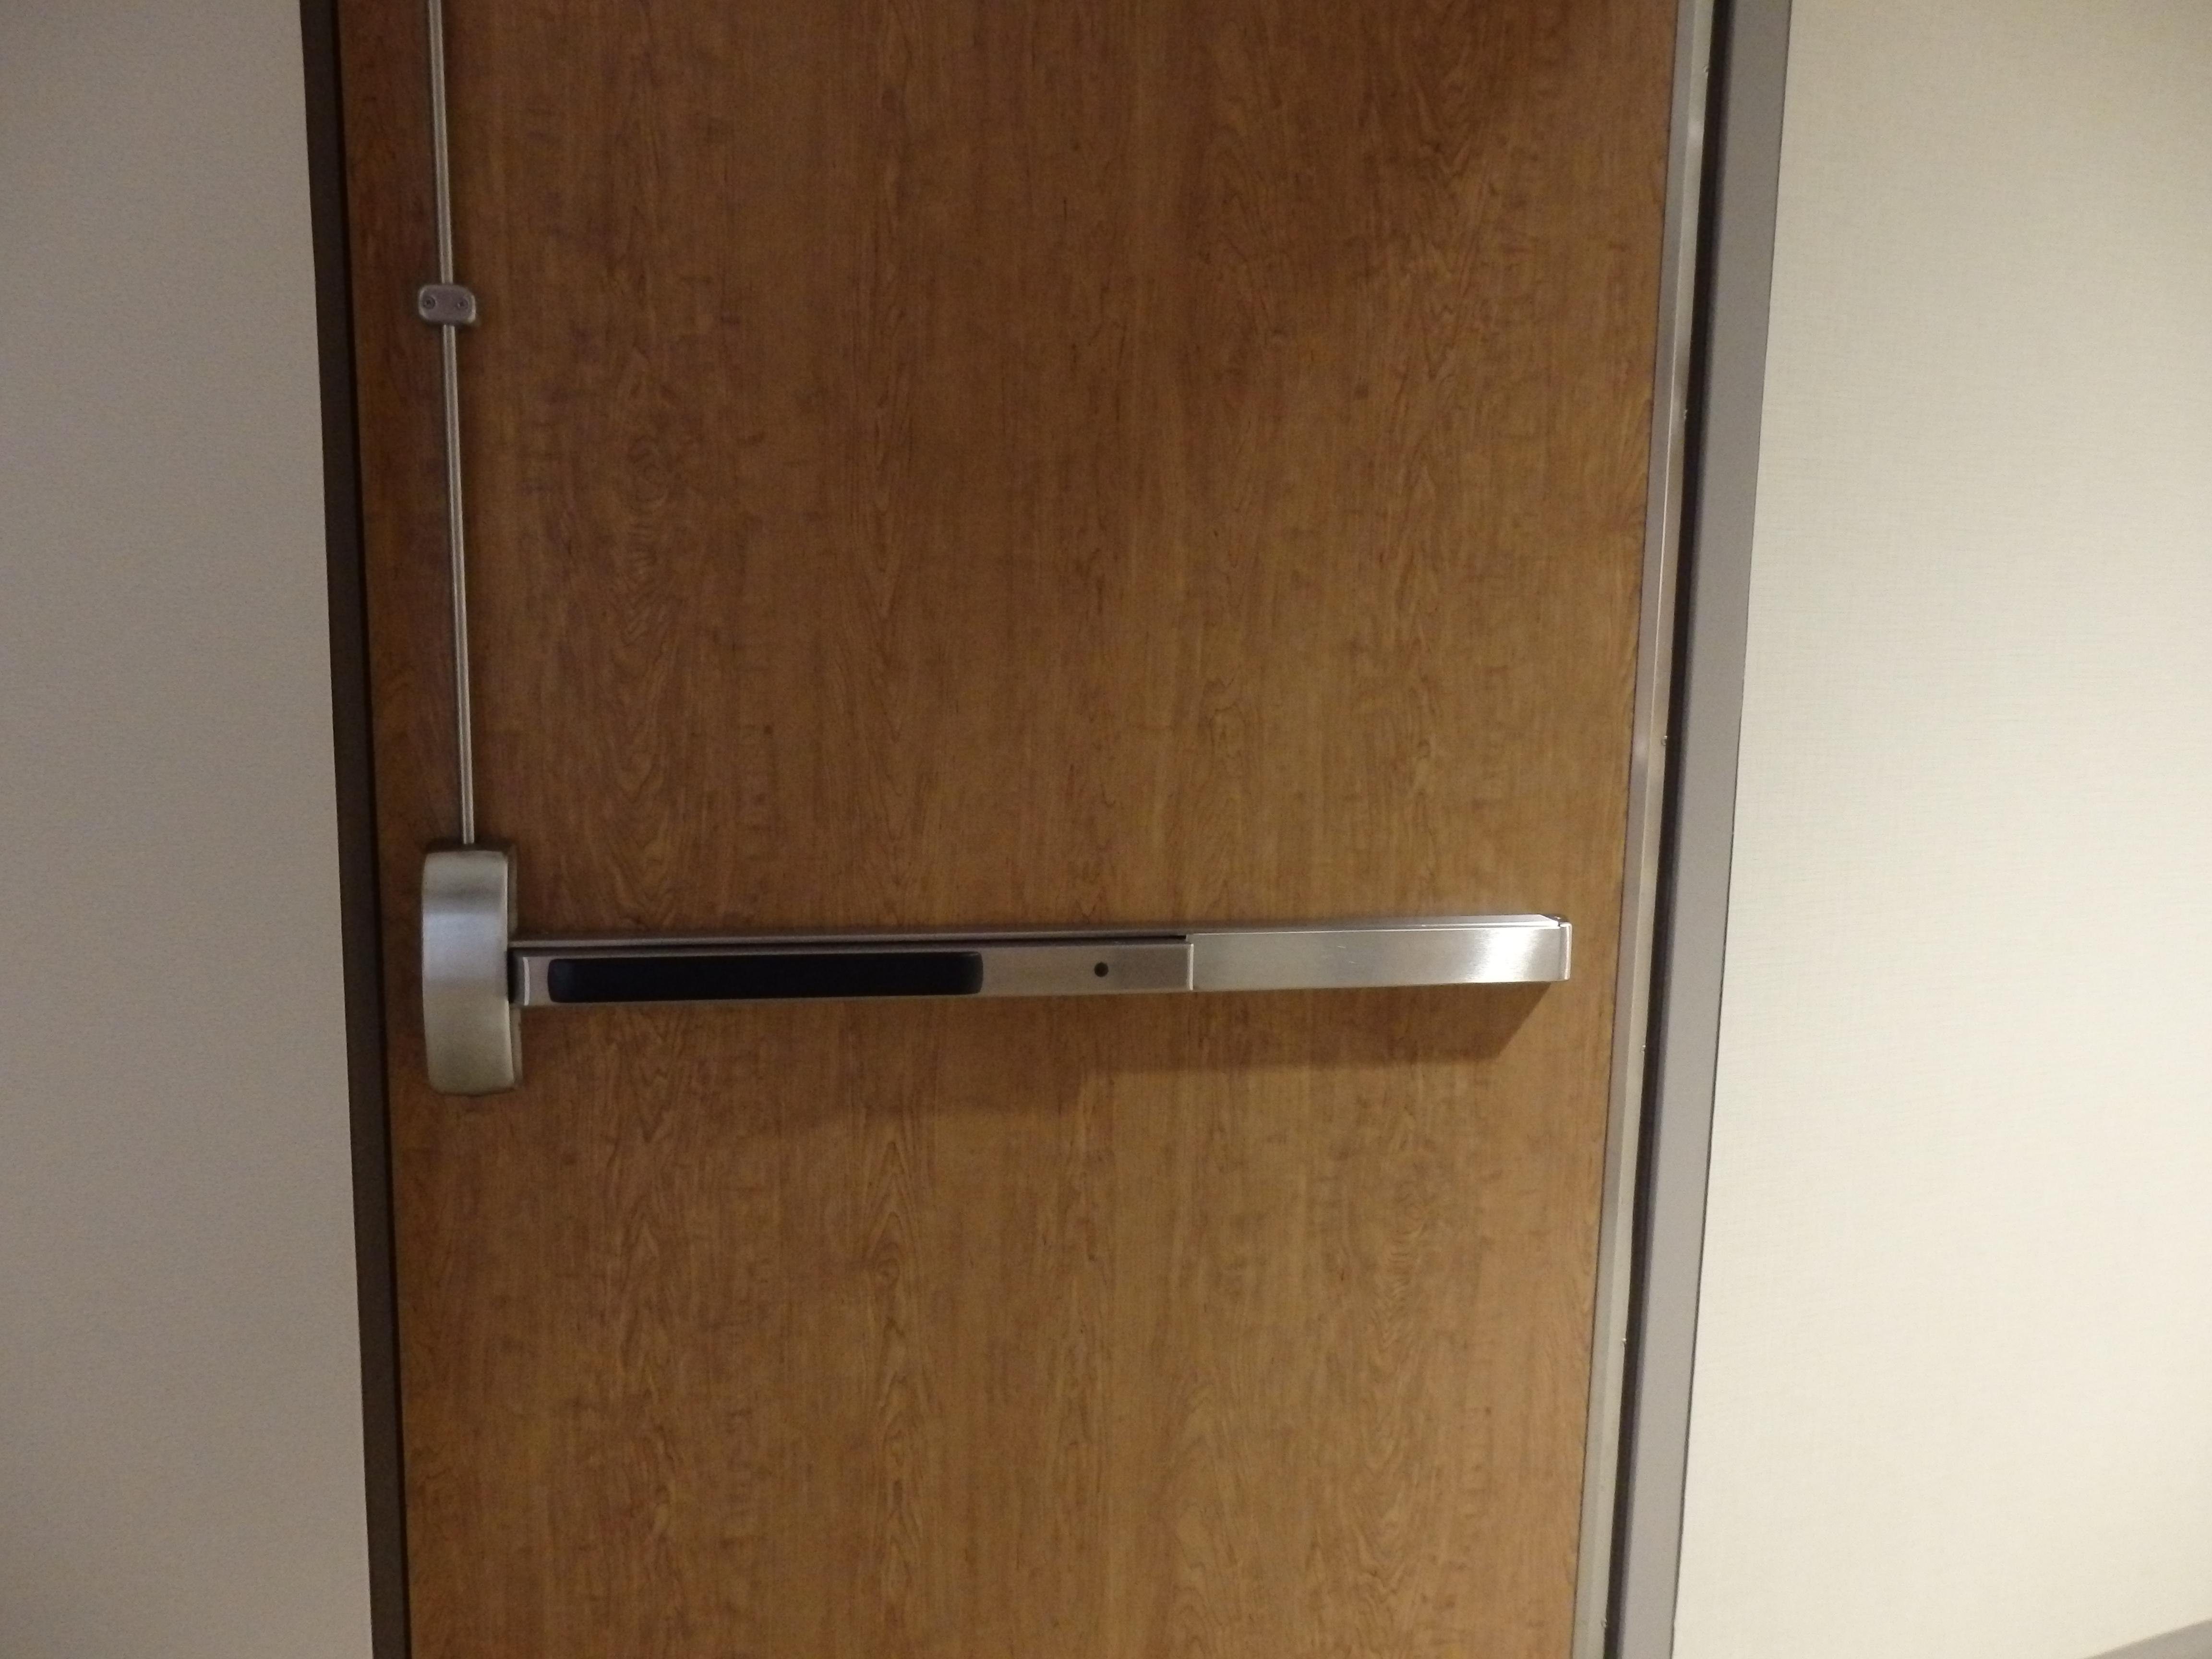door: (322, 5, 1632, 1659)
